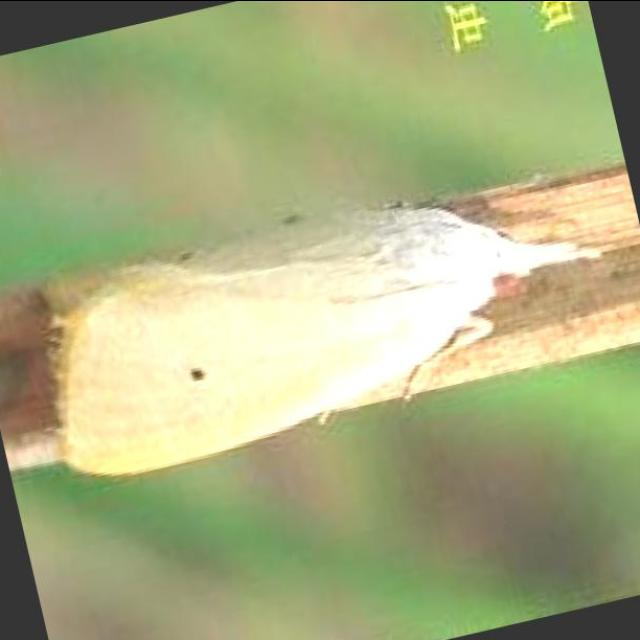stem borer: (47, 207, 600, 474)
